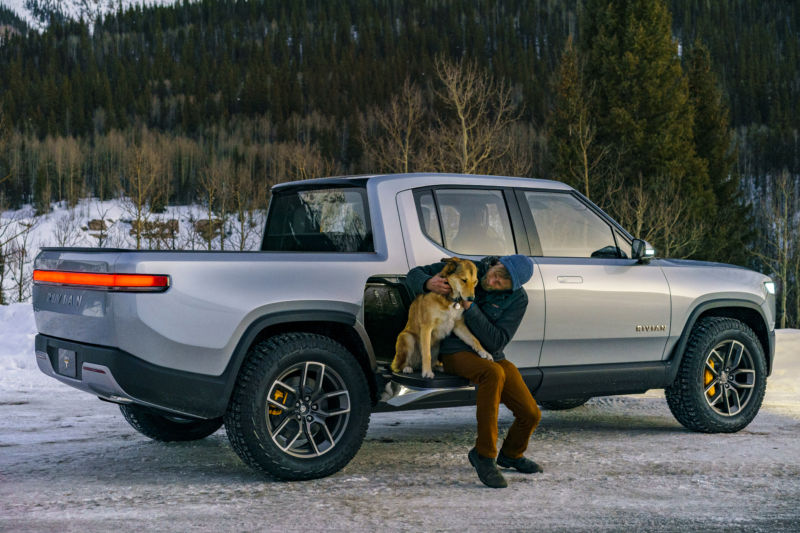Car: (26, 165, 786, 484)
